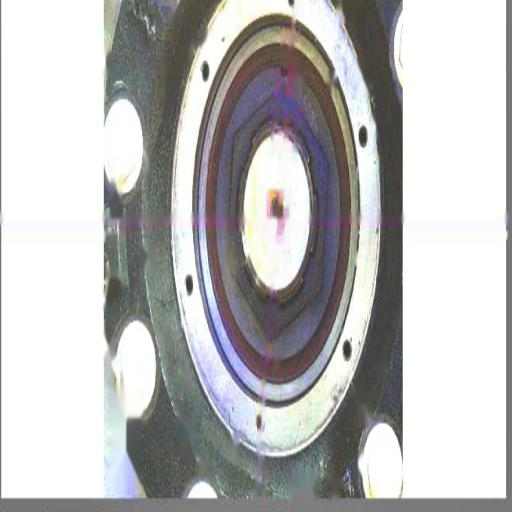center: (267, 189, 290, 228)
notch: (278, 61, 292, 90)
